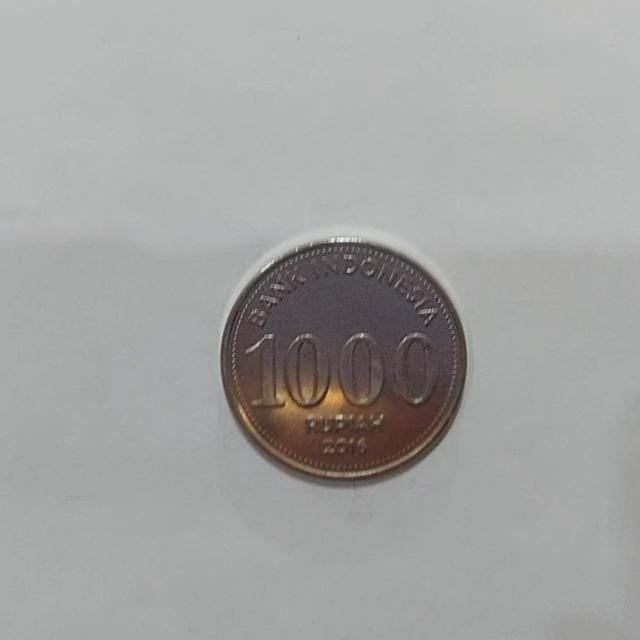Rp100: (217, 225, 469, 483)
